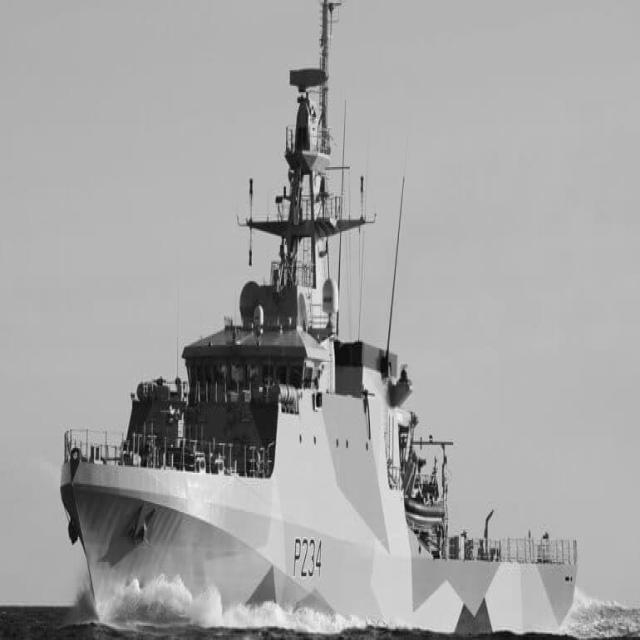Naval: (57, 4, 586, 640)
